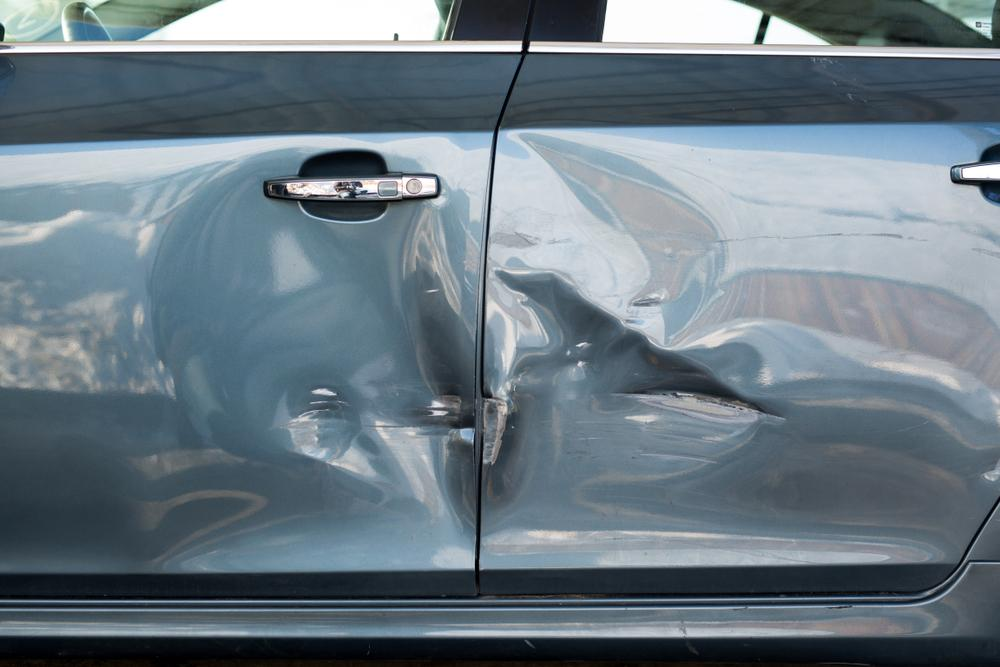dent: (153, 163, 479, 513), (482, 132, 771, 519)
